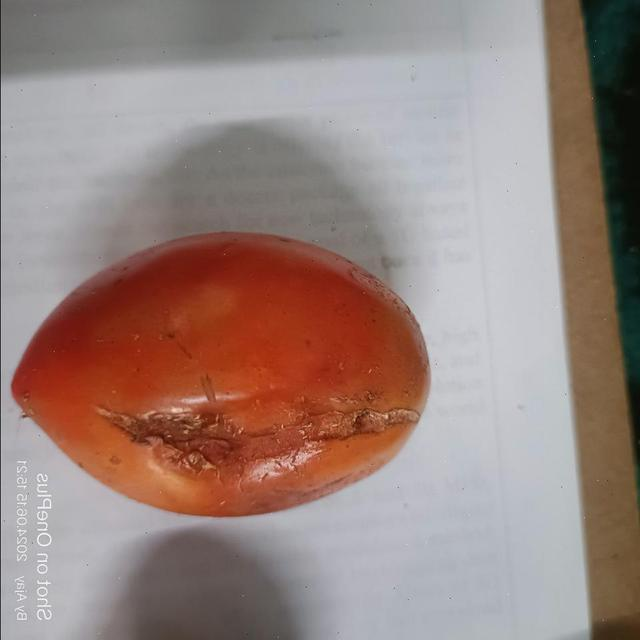Cracking Fruit: (84, 129, 140, 402)
